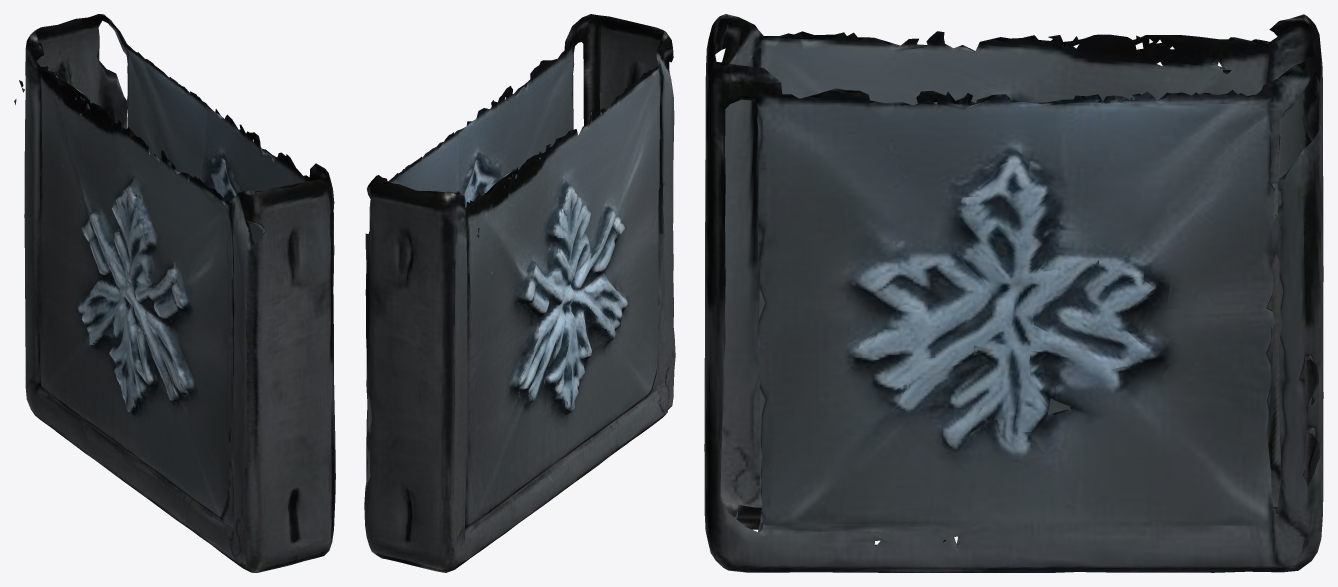
File: rf_cryic_glyph.glb
3 views of the same model, side by side, from view 1: azimuth 30°, elevation 25°; view 2: azimuth 150°, elevation 25°; view 3: azimuth 270°, elevation 25° (orthographic). The views are drawn at different scales.
Parts seen in each view (by area): view 1: geometry_0; view 2: geometry_0; view 3: geometry_0.
Part boxes in pixels (<box>): geometry_0: <box>14,14,335,572</box>; geometry_0: <box>364,14,675,572</box>; geometry_0: <box>704,14,1323,572</box>.
Size of the model in its own units: 0.2696 by 0.917 by 1.
1 material, 1 textured.
